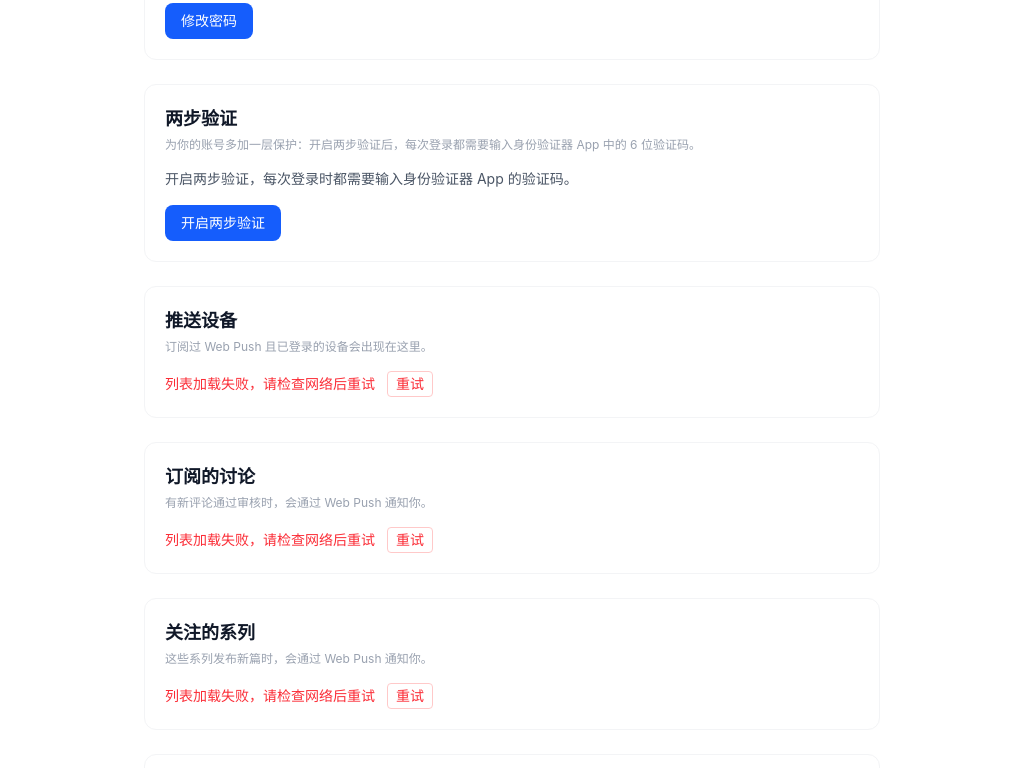
Test case: Account settings page › shows a load-failure message with Retry instead of the empty state when the list fetch fails
(page scrolled)
Expected: the text "还没有绑定任何推送设备" is not shown
Click the button "重试" below "订阅过 Web Push 且已登录的设备会出现在这里。" at coordinates (410, 384), box [387,371,433,397]
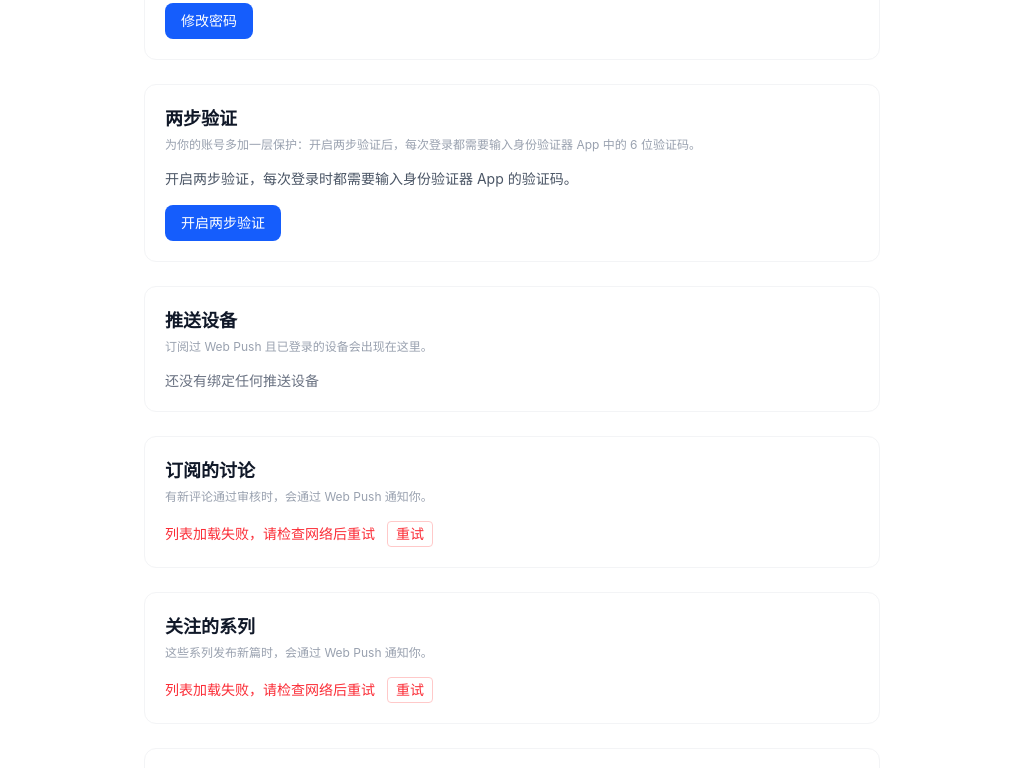
Expected: the text "还没有绑定任何推送设备" is shown, [165,372,319,389]
